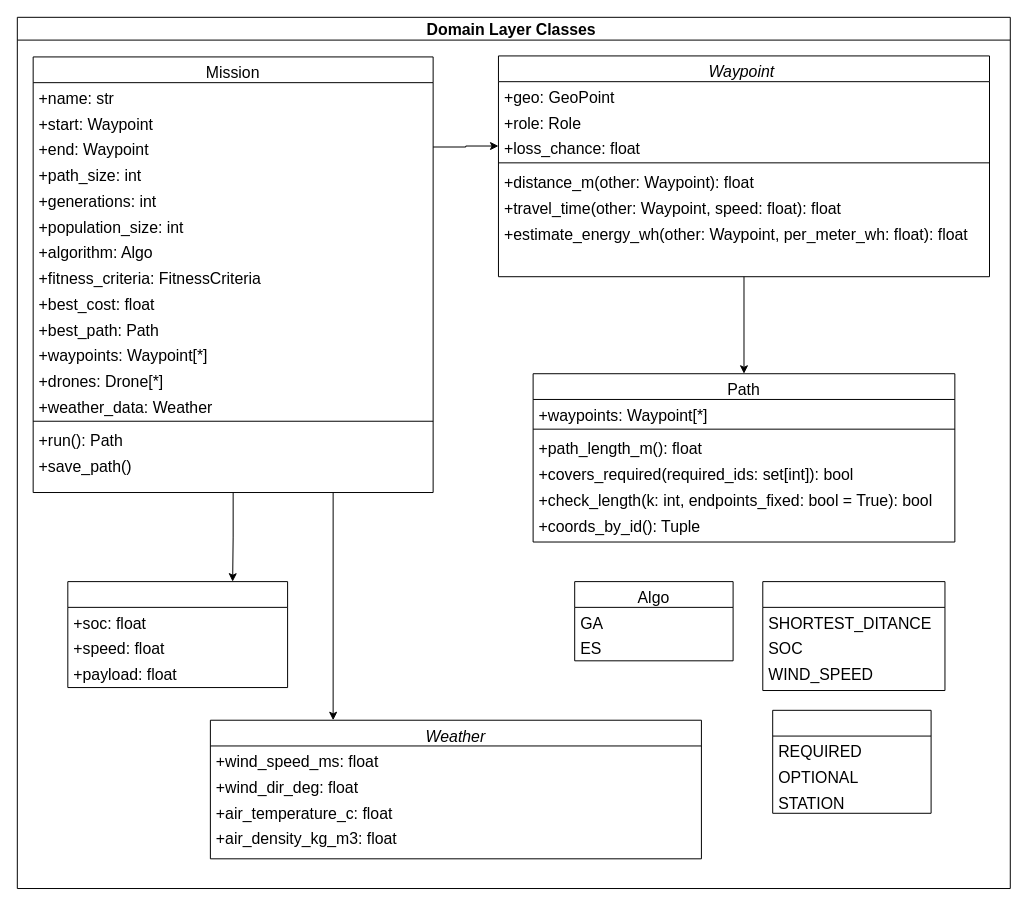
Image size: 1028x906. Some labels were removed from this diagram. Each missing label, with the box of its shape:
Drone: (67, 581, 288, 688)
FitnessCriteria: (762, 581, 945, 691)
Role: (772, 709, 931, 813)
